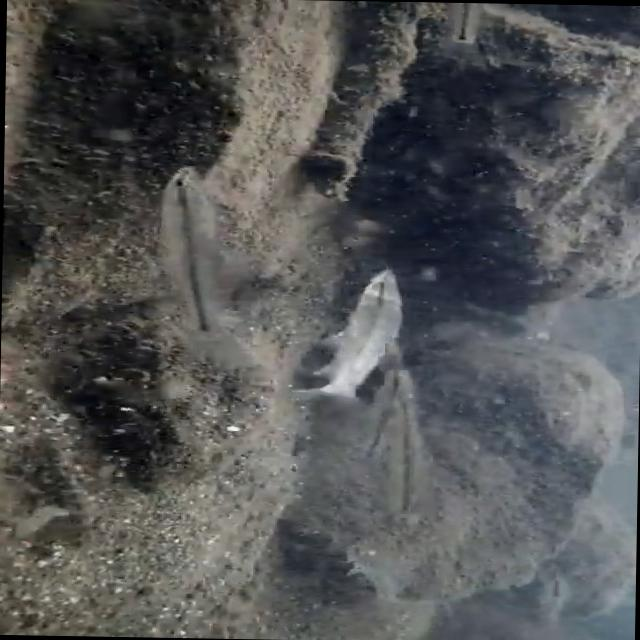Cakil Baligi: (152, 164, 266, 366), (296, 273, 414, 401), (363, 364, 449, 523)
